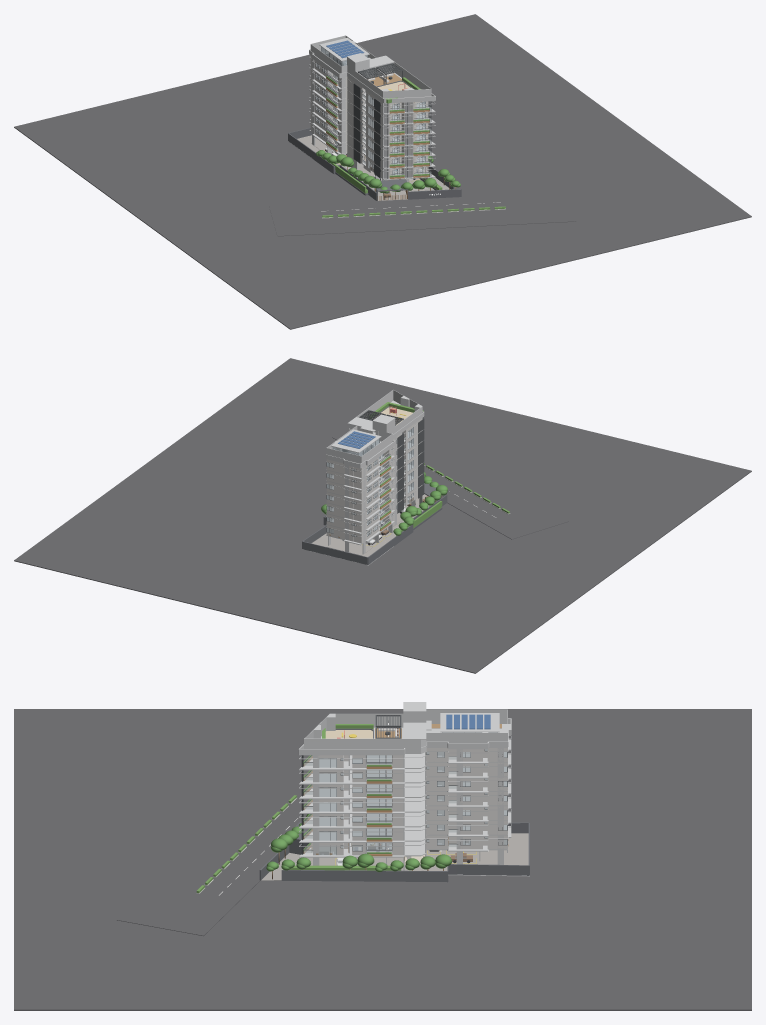
File: vibgyor.glb
The picture shows the model from 3 angles, top to bottom: view 1: azimuth 30°, elevation 25°; view 2: azimuth 150°, elevation 25°; view 3: azimuth 270°, elevation 25°; orthographic projection. The views are drawn at different scales.
Visible parts, largest first — view 1: Site_Terrain_Base, Main_18m_Road, Floor_8_Stair_Cabin_Walls, Plot_Compound_Wall, Landscape_Tree_Canopies, Floor_8_Terrace_Parapet, Plot_Driveway_Pavers; view 2: Site_Terrain_Base, Main_18m_Road, Floor_8_Stair_Cabin_Walls, Plot_Compound_Wall, Landscape_Tree_Canopies; view 3: Site_Terrain_Base, Main_18m_Road, Floor_8_Stair_Cabin_Walls, Plot_Compound_Wall, Landscape_Tree_Canopies, Floor_7_Slab_Band, Floor_3_Slab_Band, Floor_2_Slab_Band, Floor_5_Slab_Band, Floor_4_Slab_Band, Floor_6_Slab_Band, Floor_8_Terrace_Parapet (+20 smaller).
Part boxes in pixels (<box>): Site_Terrain_Base: <box>14,14,751,329</box>; Main_18m_Road: <box>269,191,576,236</box>; Floor_8_Stair_Cabin_Walls: <box>310,35,431,98</box>; Plot_Compound_Wall: <box>288,127,461,200</box>; Landscape_Tree_Canopies: <box>316,150,460,193</box>; Floor_8_Terrace_Parapet: <box>309,49,435,102</box>; Plot_Driveway_Pavers: <box>297,135,450,200</box>; Site_Terrain_Base: <box>14,358,751,673</box>; Main_18m_Road: <box>332,432,568,539</box>; Floor_8_Stair_Cabin_Walls: <box>326,390,422,463</box>; Plot_Compound_Wall: <box>302,495,447,564</box>; Landscape_Tree_Canopies: <box>321,472,447,535</box>; Site_Terrain_Base: <box>14,709,751,1010</box>; Main_18m_Road: <box>117,764,309,936</box>; Floor_8_Stair_Cabin_Walls: <box>304,709,507,748</box>; Plot_Compound_Wall: <box>259,822,529,882</box>; Landscape_Tree_Canopies: <box>266,814,452,872</box>; Floor_7_Slab_Band: <box>299,736,511,770</box>; Floor_3_Slab_Band: <box>299,794,511,828</box>; Floor_2_Slab_Band: <box>299,809,511,842</box>; Floor_5_Slab_Band: <box>299,765,511,799</box>; Floor_4_Slab_Band: <box>299,780,511,813</box>; Floor_6_Slab_Band: <box>299,751,511,784</box>; Floor_8_Terrace_Parapet: <box>298,718,511,754</box>.
Bounding box in the file's own units: 135 × 33.41 × 140.
